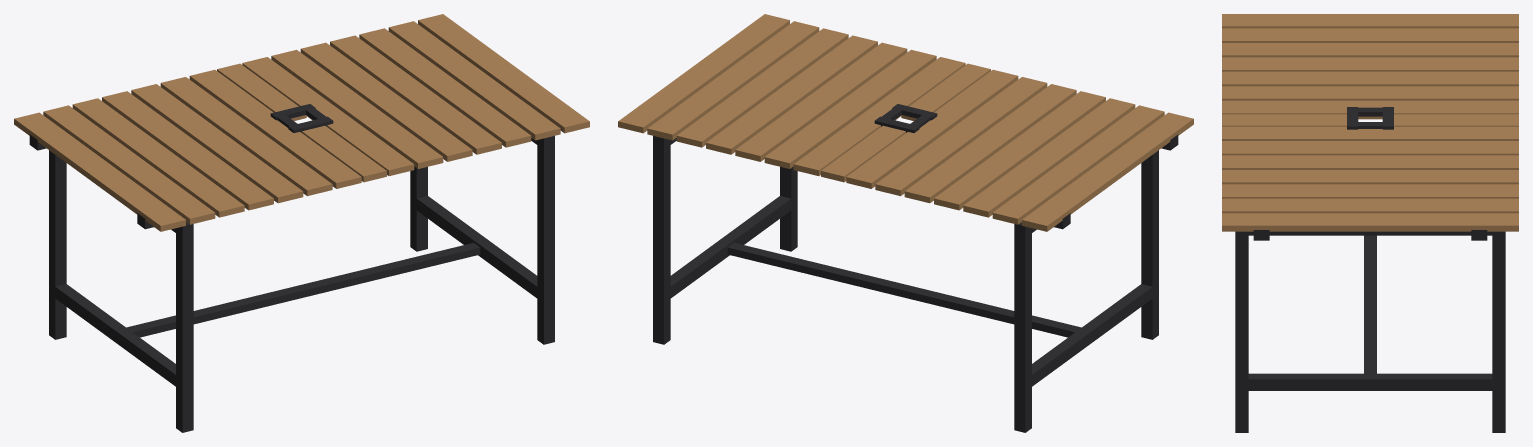
Rendered from FN_Table_Garden.fbx.
3 views of the same model, side by side, from view 1: azimuth 30°, elevation 25°; view 2: azimuth 150°, elevation 25°; view 3: azimuth 270°, elevation 25° (orthographic).
Parts seen in each view (by area): view 1: FN_Table_Garden; view 2: FN_Table_Garden; view 3: FN_Table_Garden.
Part boxes in pixels (x1=…): FN_Table_Garden: x1=14, y1=14, x2=589, y2=432; FN_Table_Garden: x1=618, y1=14, x2=1193, y2=432; FN_Table_Garden: x1=1222, y1=14, x2=1518, y2=432.
Size of the model in its own units: 152 by 75 by 90.
Materials: 1 (1 with a texture image).
